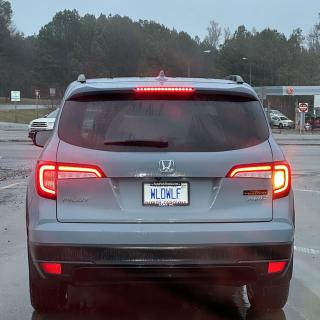license: (142, 182, 191, 207)
